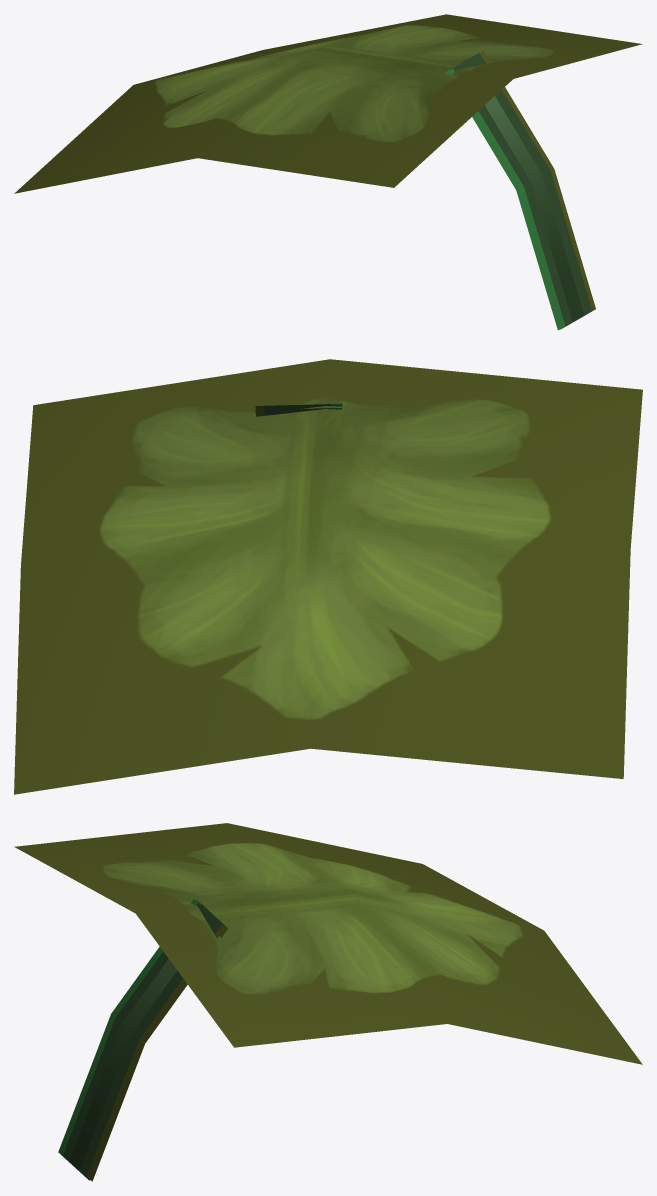
Rendered from grass_pant_04B.fbx.
3 views of the same model, one above another, from view 1: azimuth 30°, elevation 25°; view 2: azimuth 150°, elevation 25°; view 3: azimuth 270°, elevation 25° (orthographic). The views are drawn at different scales.
Parts seen in each view (by area): view 1: grass_pant_04B; view 2: grass_pant_04B; view 3: grass_pant_04B.
Part boxes in pixels (bbox=[...]): grass_pant_04B: bbox=[14, 14, 642, 330]; grass_pant_04B: bbox=[14, 359, 642, 794]; grass_pant_04B: bbox=[14, 823, 642, 1181].
Size of the model in its own units: 0.9073 by 0.3712 by 0.887.
